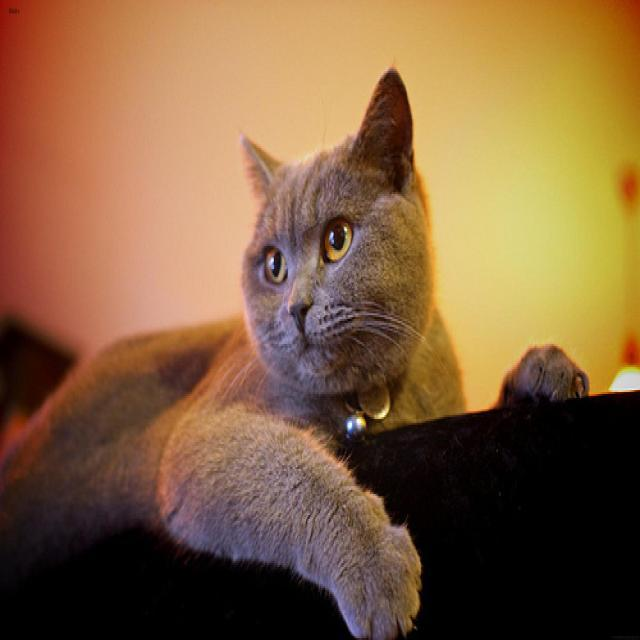British_Shorthair: (237, 67, 433, 412)
